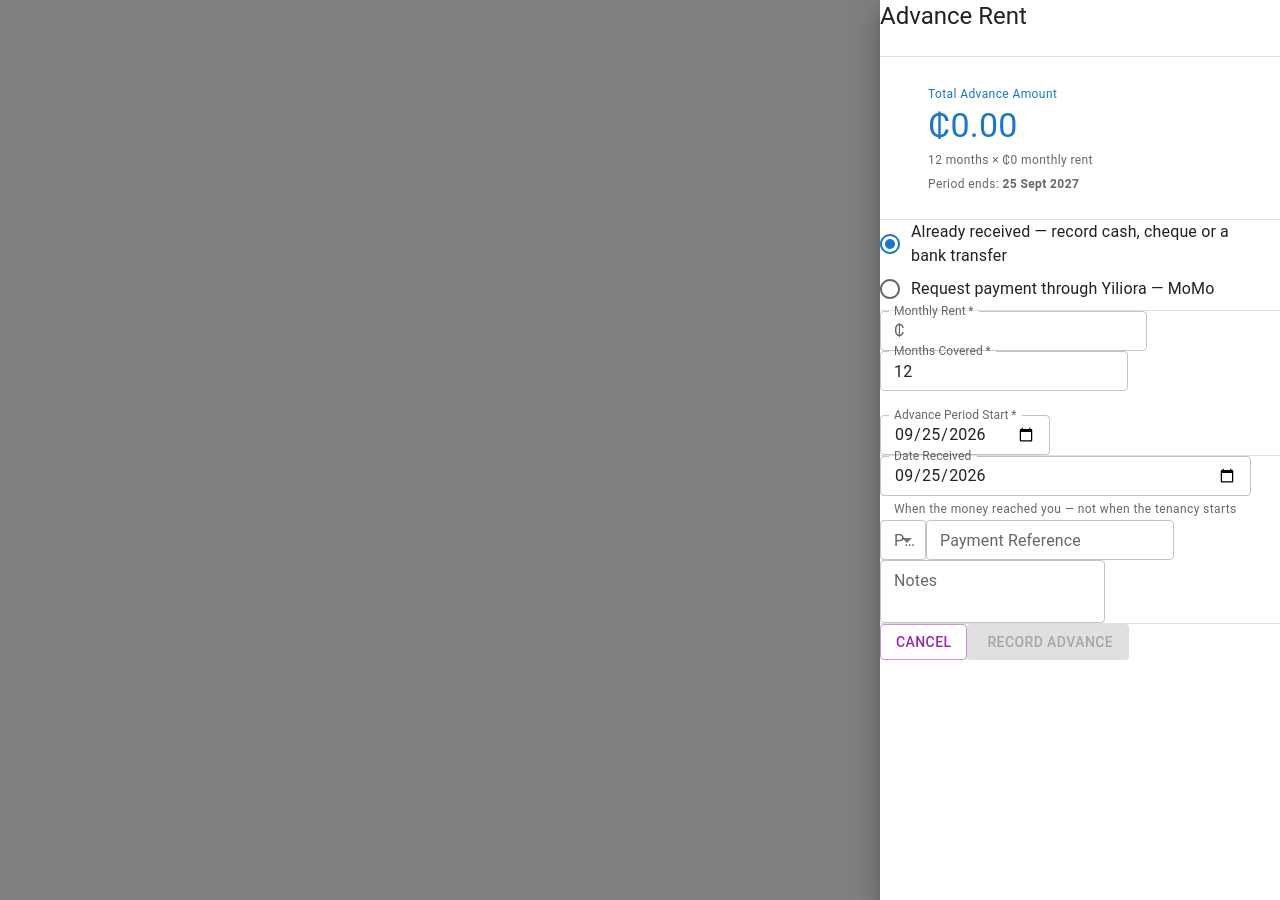
Scenario: AddAdvanceRentDrawer › shows a waiting state making clear the occupant must approve, and that the request is saved as pending (not silently dropped)
Click the radio button labelled "Request payment through Yiliora — MoMo" at (1046, 289), box [878, 277, 1214, 301]
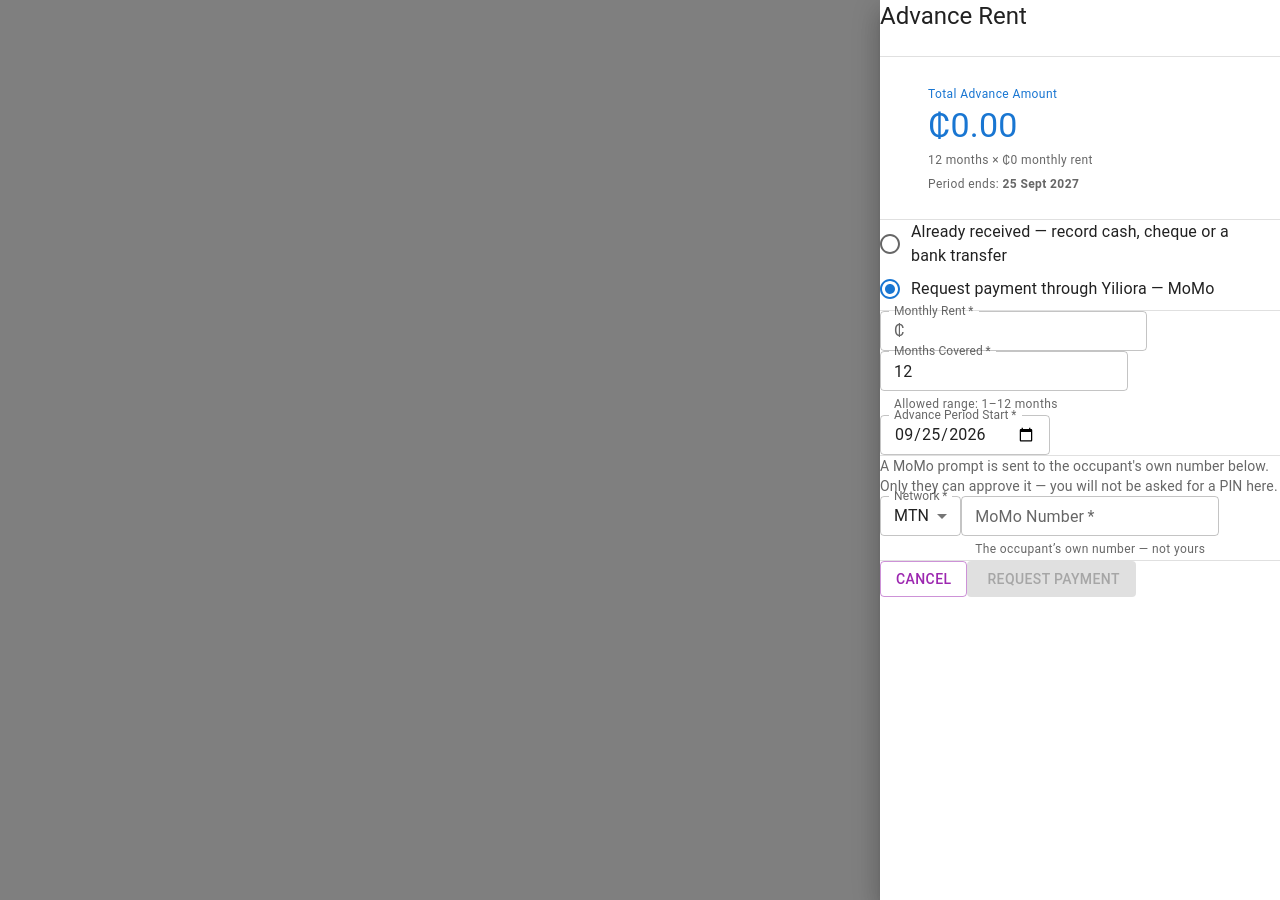
Type "1000" into the number field labelled "Monthly Rent *" at (1030, 331), box [913, 311, 1147, 351]
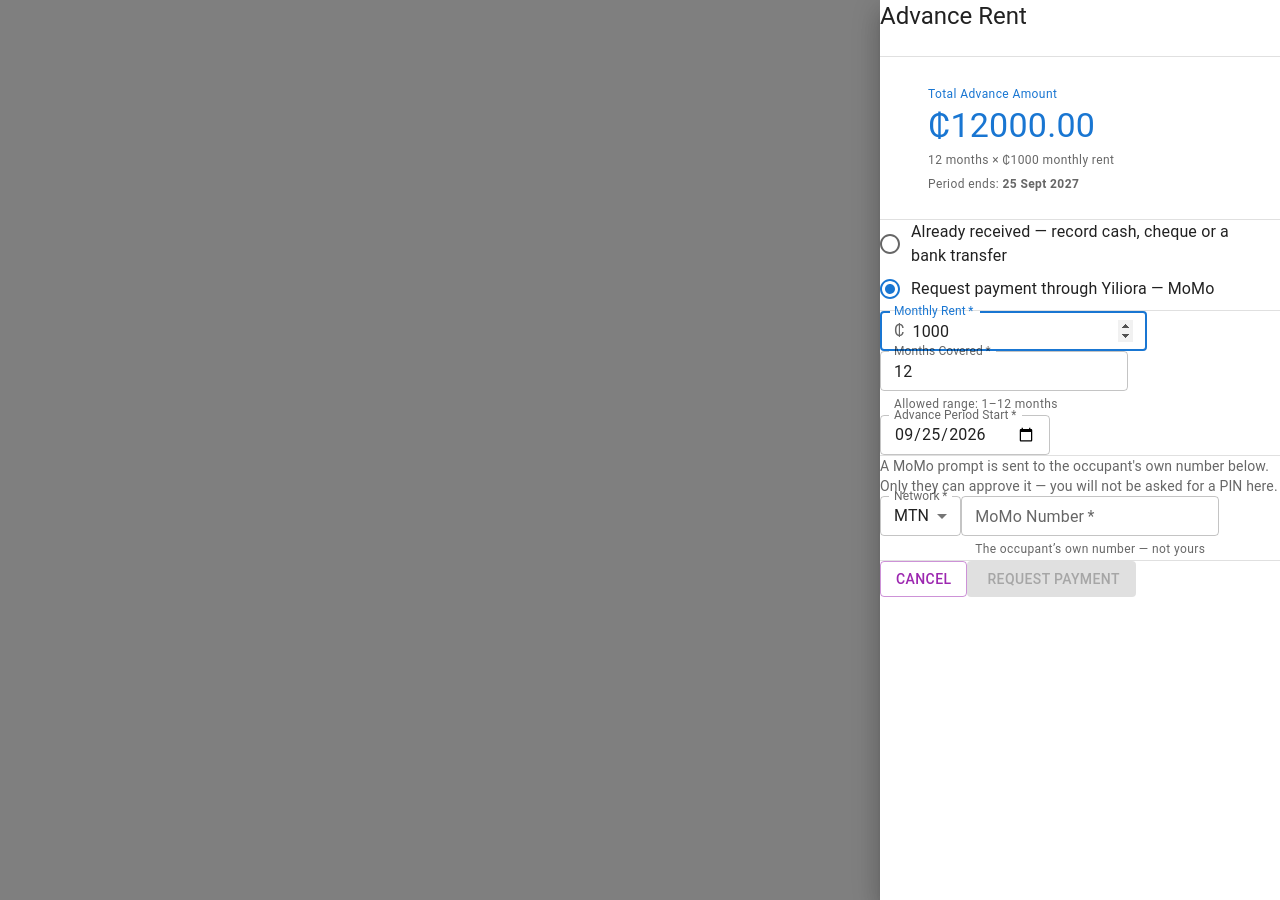
Type "0244778899" into the field labelled "MoMo Number *" at (1090, 516), box [961, 496, 1219, 536]
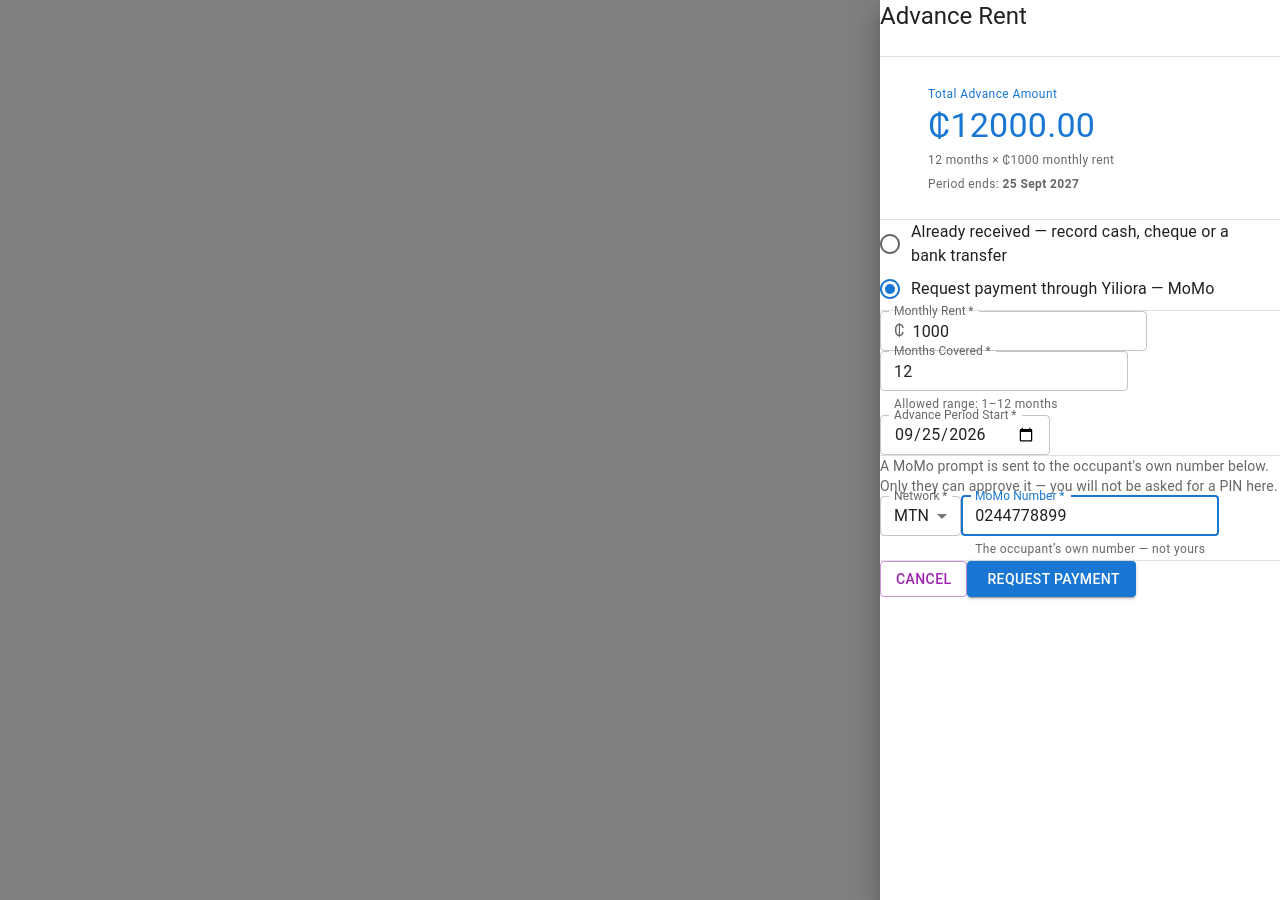
Click the button "Request Payment" at (1052, 579), box [968, 561, 1136, 597]
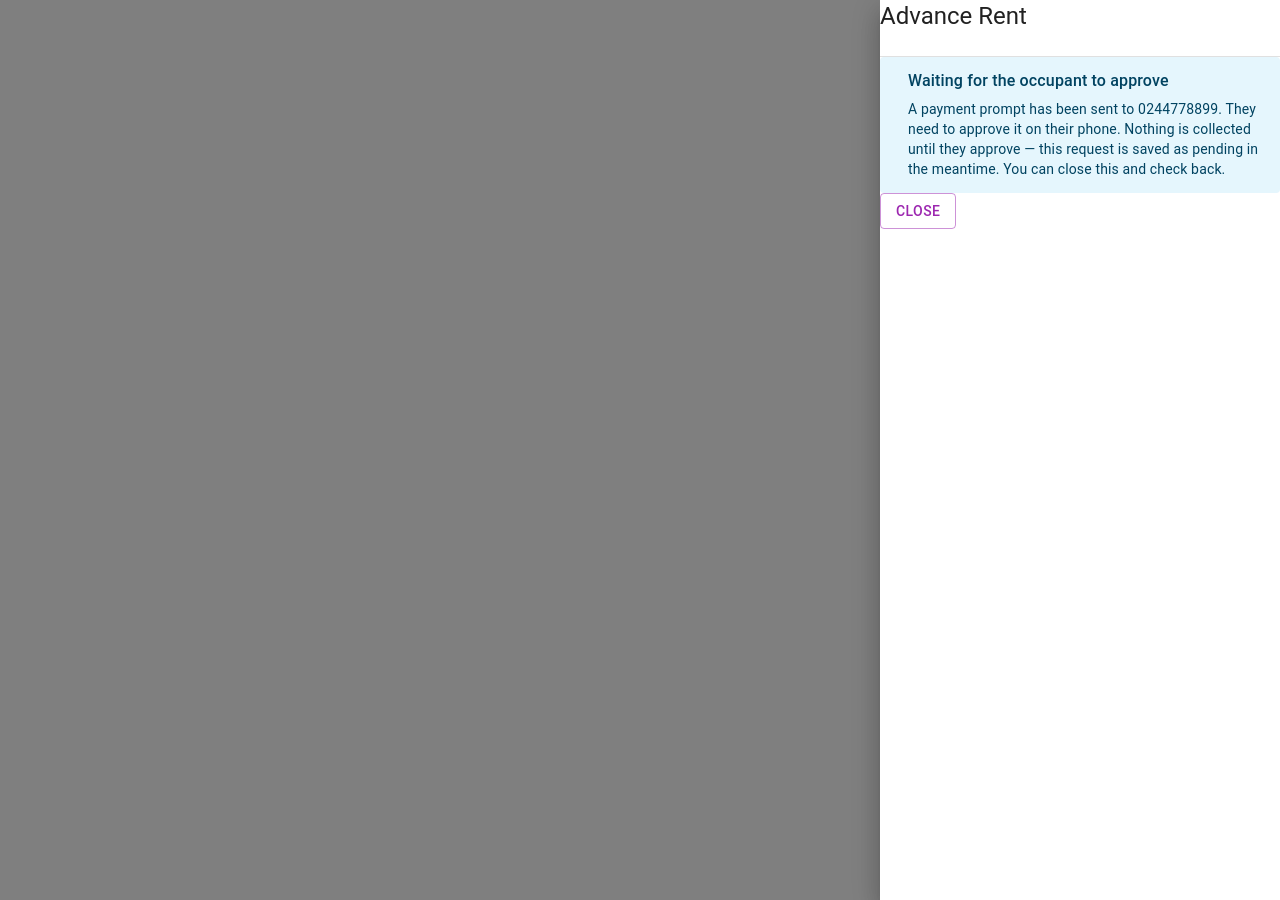
Check: the text "saved as pending" is shown, box [908, 101, 1258, 177]
